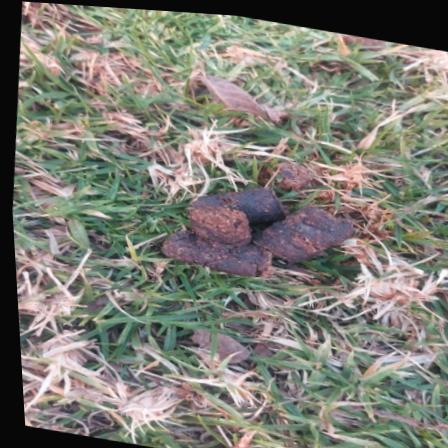dog-poop: (142, 133, 377, 306)
